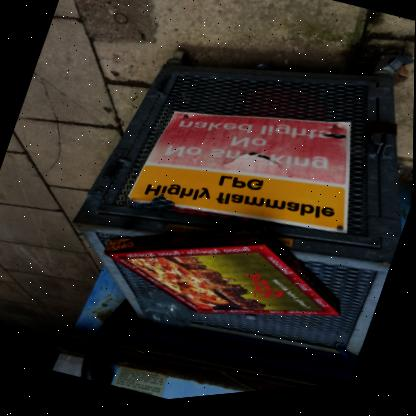Paper: (105, 232, 340, 321)
Plastic: (135, 292, 192, 330)
